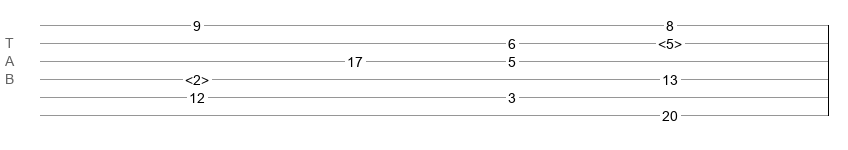12: (189, 90, 205, 100)
13: (662, 72, 678, 82)
17: (347, 54, 363, 64)
20: (662, 108, 678, 118)
3: (508, 90, 516, 100)
5: (508, 54, 516, 64)
6: (508, 36, 516, 46)
8: (666, 18, 674, 28)
9: (193, 18, 201, 28)
harmonic: (185, 72, 209, 82), (658, 36, 682, 46)
